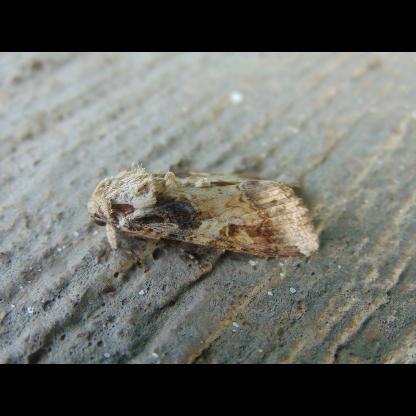Fall Armyworm Moth: (84, 160, 324, 278)
